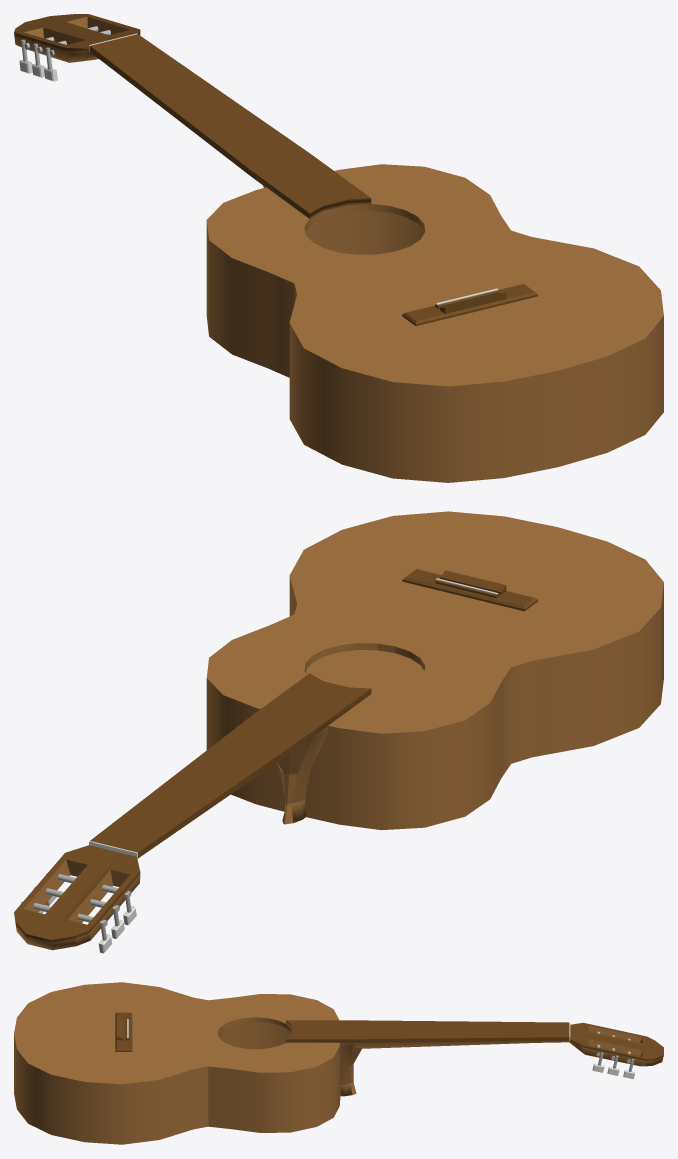
The model's file is Guitar_LowPoly.fbx.
The picture shows the model from 3 angles, top to bottom: view 1: azimuth 30°, elevation 25°; view 2: azimuth 150°, elevation 25°; view 3: azimuth 270°, elevation 25°; orthographic projection. The views are drawn at different scales.
Visible parts, largest first — view 1: pCube189; view 2: pCube189; view 3: pCube189.
Boxes of the visible parts, x1=… form: pCube189: x1=14, y1=14, x2=663, y2=482; pCube189: x1=14, y1=511, x2=663, y2=953; pCube189: x1=14, y1=982, x2=663, y2=1144.
Bounding box in the file's own units: 0.6298 × 0.1906 × 1.69.
